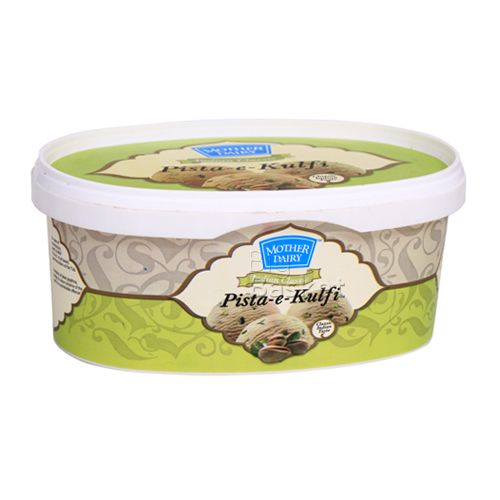Mother_Dairy: (260, 235, 324, 271)
